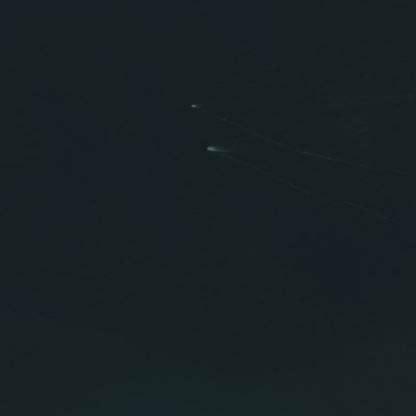ship: (200, 142, 226, 156), (183, 99, 205, 112)
